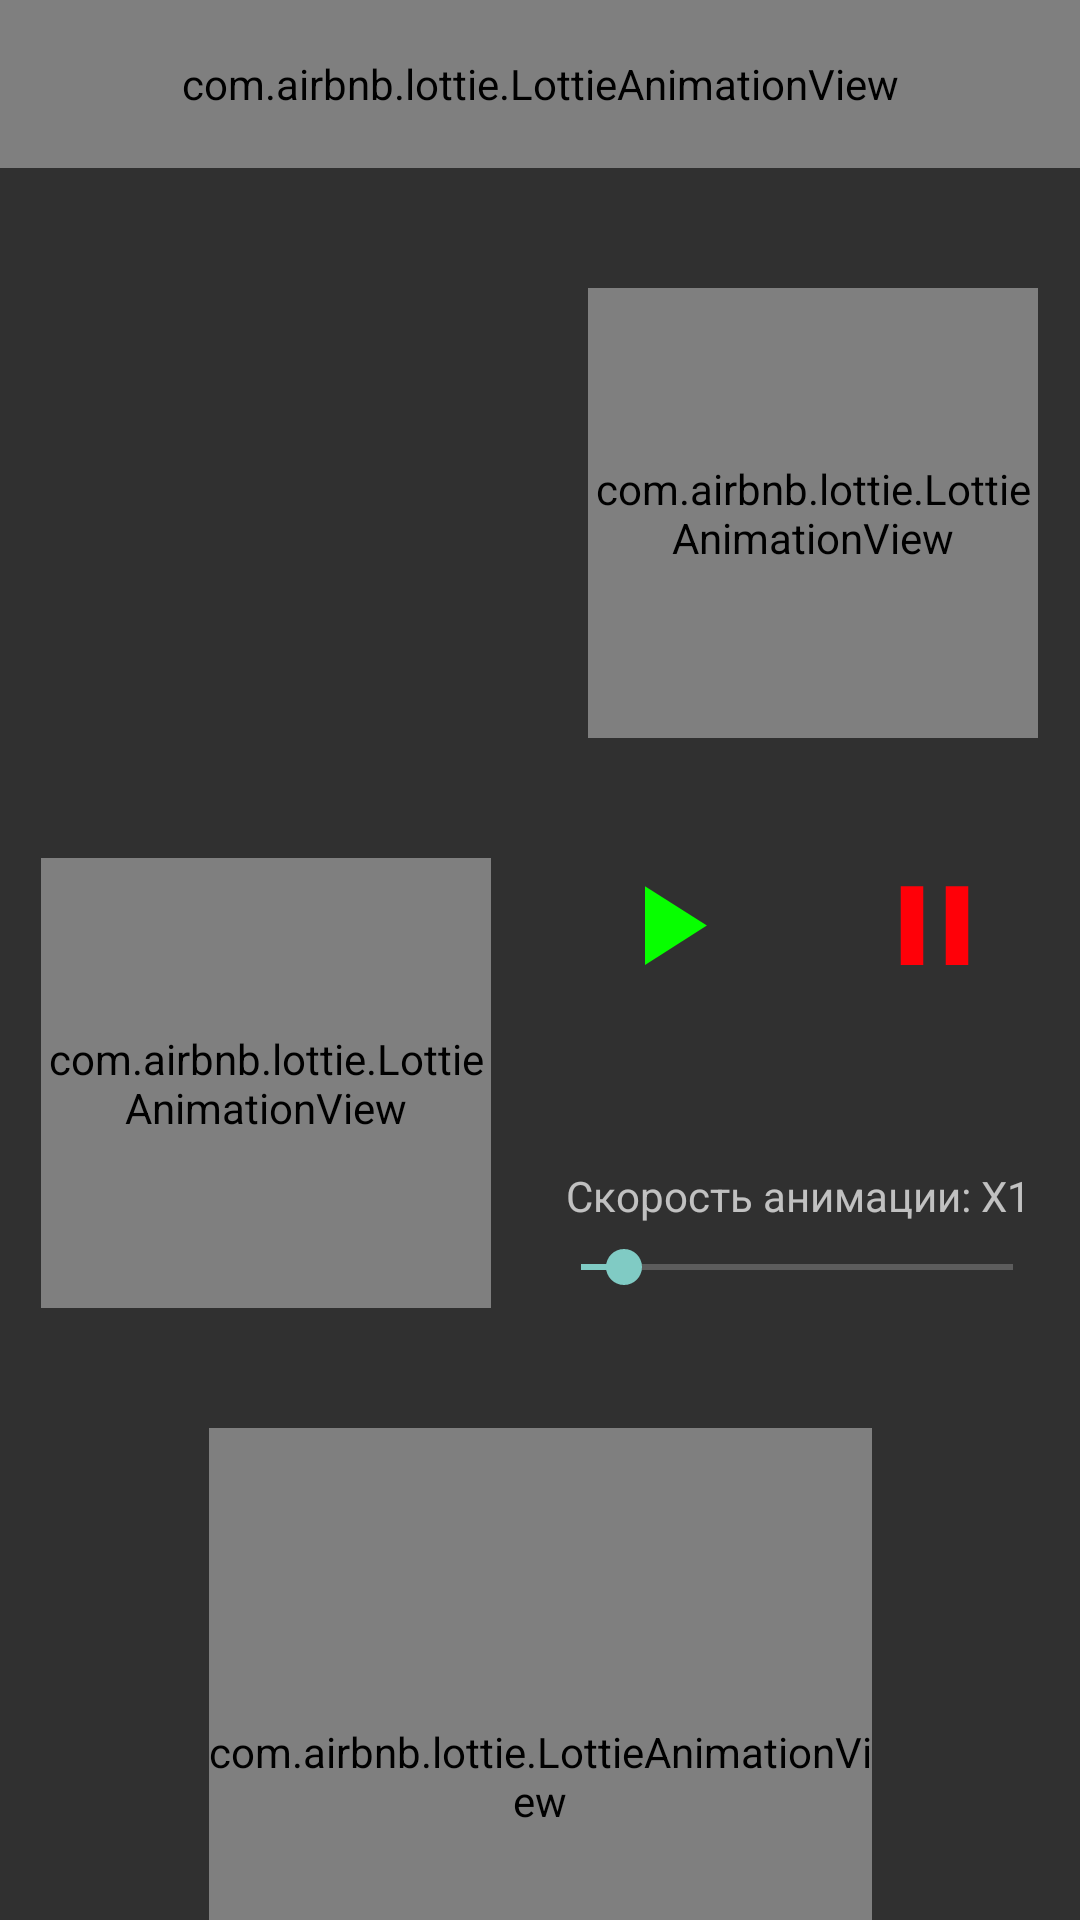

Icons on this 1080 x 1920 Android screen, each with the point to tap as [x,y]:
pause: [934,925]
play arrow: [676,925]
